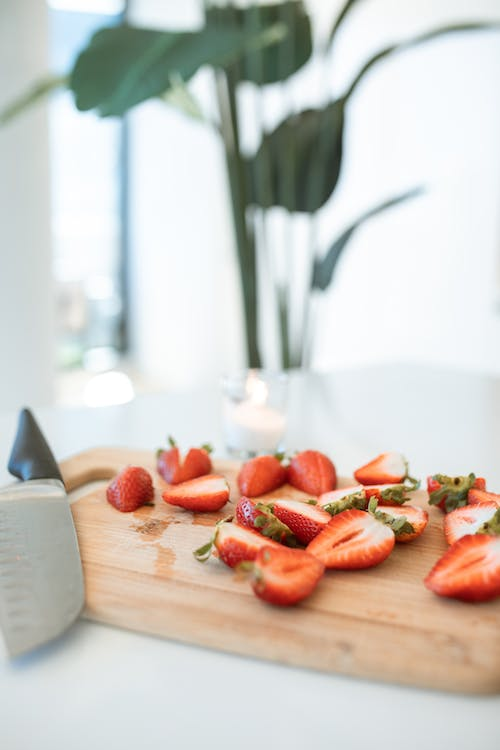knife: (0, 402, 86, 661)
